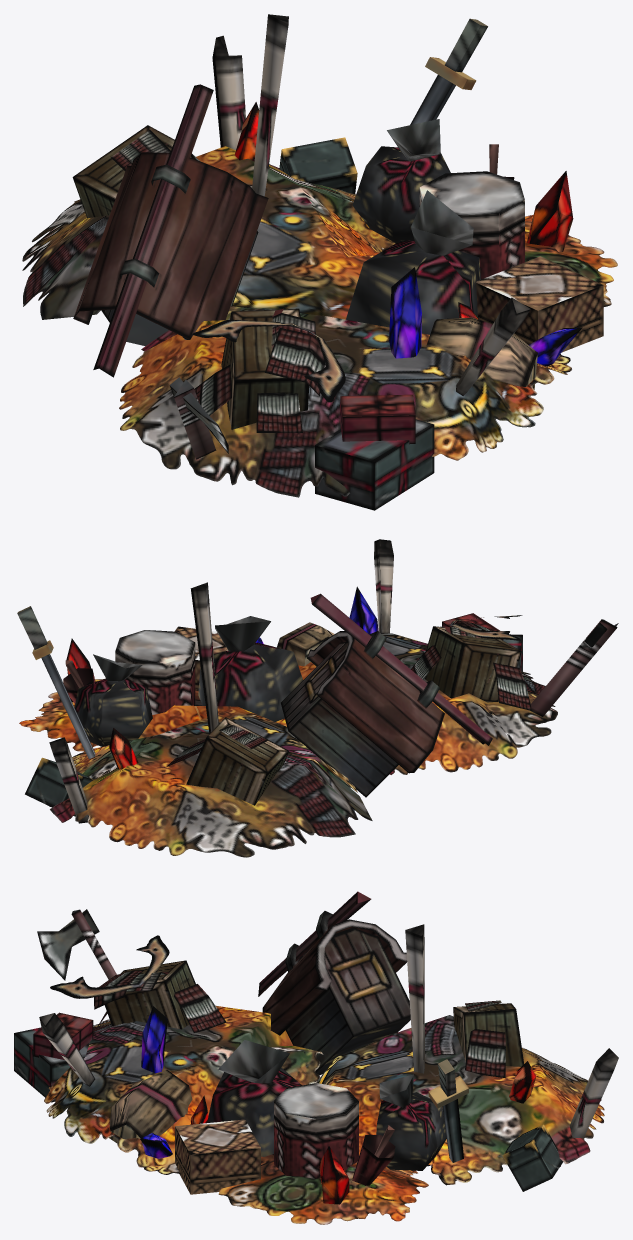
File: PRP_TreasurePileA.FBX
3 views of the same model, one above another, from view 1: azimuth 30°, elevation 25°; view 2: azimuth 150°, elevation 25°; view 3: azimuth 270°, elevation 25° (orthographic). The views are drawn at different scales.
Parts seen in each view (by area): view 1: PRP_TreasurePileA; view 2: PRP_TreasurePileA; view 3: PRP_TreasurePileA.
Boxes of the visible parts, left/top/right/bottom form: PRP_TreasurePileA: left=22, top=14, right=617, bottom=510; PRP_TreasurePileA: left=17, top=539, right=618, bottom=857; PRP_TreasurePileA: left=14, top=891, right=618, bottom=1224.
Size of the model in its own units: 347 by 159 by 395.
